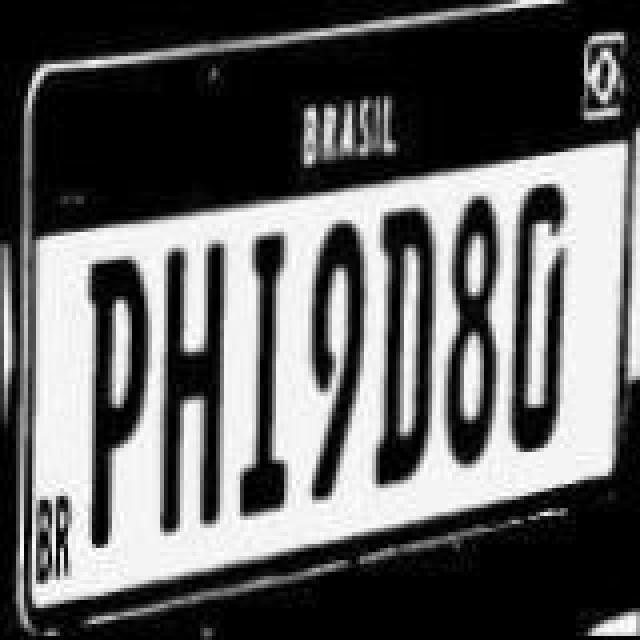8: (442, 190, 514, 482)
9: (302, 216, 374, 516)
D: (366, 206, 438, 498), (504, 186, 572, 470)
H: (150, 246, 234, 530)
I: (230, 226, 302, 522)
P: (80, 264, 152, 544)
